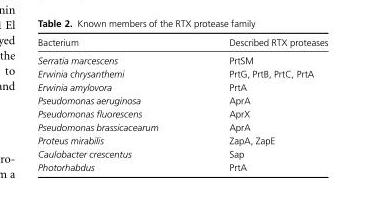table: (37, 37, 327, 172)
table column: (37, 37, 193, 172), (193, 37, 327, 172)
table column header: (37, 37, 327, 51)
table row: (37, 51, 327, 67), (37, 37, 327, 51), (37, 93, 327, 107), (37, 120, 327, 134), (37, 67, 327, 80), (37, 80, 327, 93), (37, 107, 327, 120), (37, 134, 327, 147), (37, 147, 327, 160), (37, 160, 327, 172)
